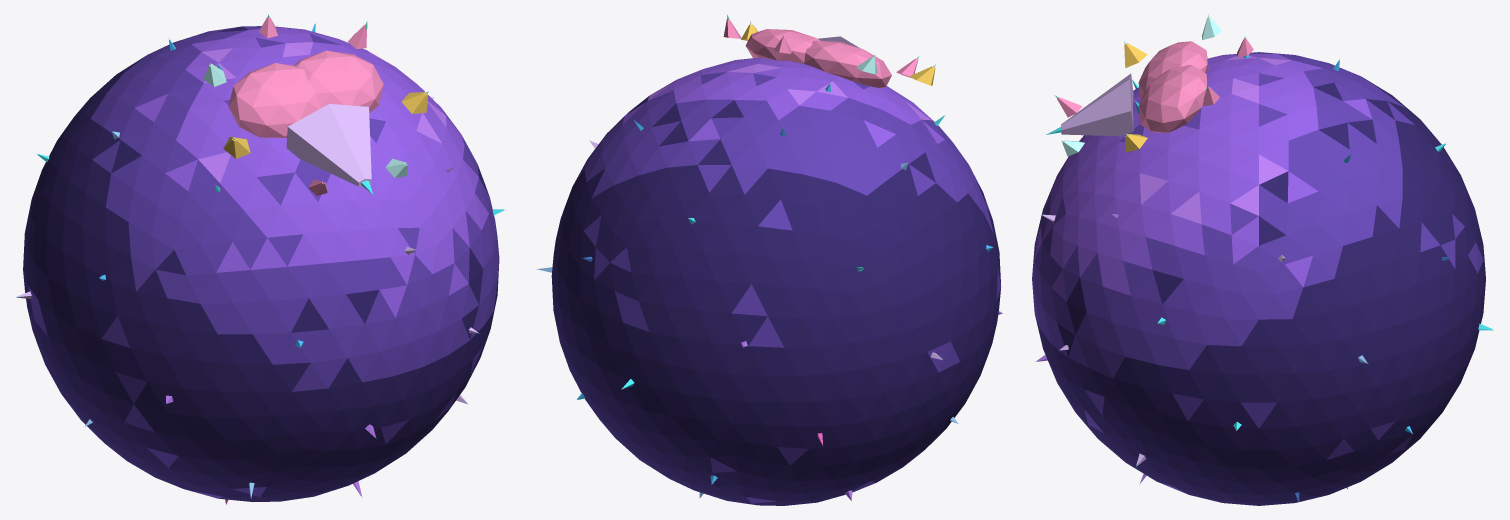
The model's file is Crystal_08.fbx.
3 renders of one model, left to right at view 1: azimuth 30°, elevation 25°; view 2: azimuth 150°, elevation 25°; view 3: azimuth 270°, elevation 25°, orthographic. The views are drawn at different scales.
Visible parts, largest first — view 1: Crystal_08; view 2: Crystal_08; view 3: Crystal_08.
Part boxes in pixels (x1=…): Crystal_08: x1=15, y1=14, x2=505, y2=504; Crystal_08: x1=536, y1=14, x2=1002, y2=505; Crystal_08: x1=1032, y1=14, x2=1494, y2=505.
Size of the model in its own units: 6.09 by 6.61 by 6.13.
1 material, 1 textured.
